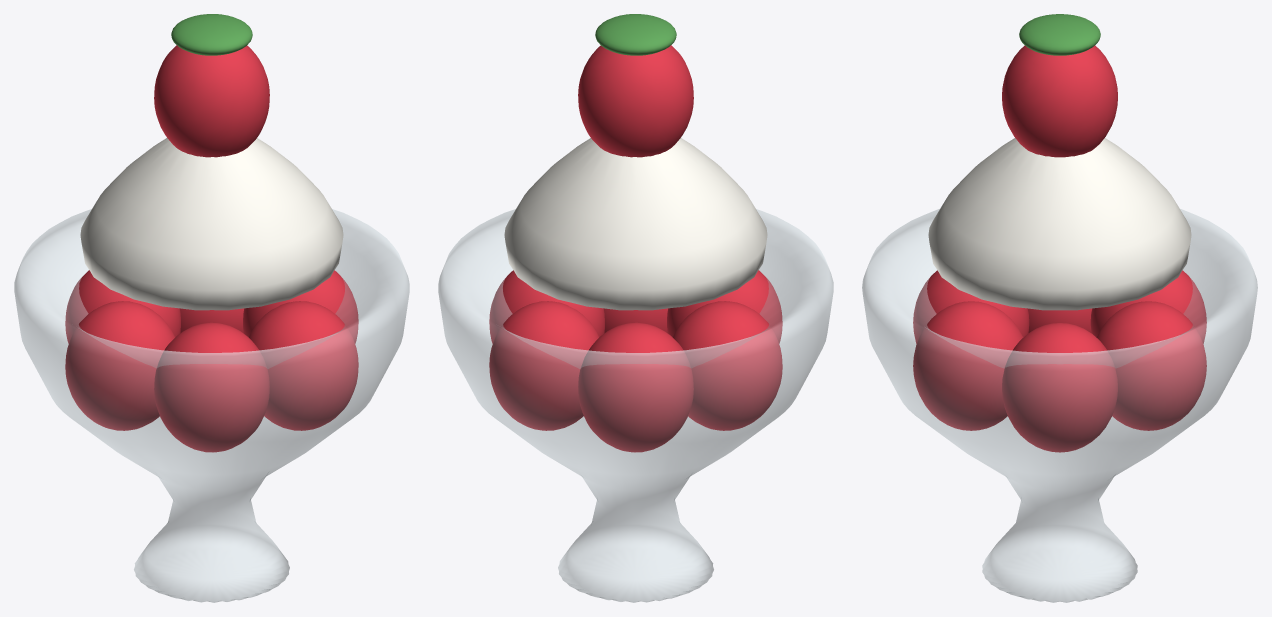
File: comida_fresas_crema.glb
3 views of the same model, side by side, from view 1: azimuth 30°, elevation 25°; view 2: azimuth 150°, elevation 25°; view 3: azimuth 270°, elevation 25° (orthographic).
Parts seen in each view (by area): view 1: copa.001, crema.001, fresa 4.001, fresa arriba.001, fresa 5.001, fresa 3.001, hojita fresa.001, fresa 0.001, fresa 2.001, fresa 1.001; view 2: copa.001, crema.001, fresa 2.001, fresa arriba.001, fresa 1.001, fresa 3.001, hojita fresa.001, fresa 0.001, fresa 4.001, fresa 5.001; view 3: copa.001, crema.001, fresa 0.001, fresa arriba.001, fresa 5.001, fresa 1.001, hojita fresa.001, fresa 2.001, fresa 4.001, fresa 3.001.
Part boxes in pixels (x1=…): copa.001: x1=14, y1=209, x2=409, y2=602; crema.001: x1=80, y1=138, x2=343, y2=310; fresa 4.001: x1=154, y1=322, x2=269, y2=452; fresa arriba.001: x1=154, y1=45, x2=269, y2=157; fresa 5.001: x1=249, y1=301, x2=358, y2=430; fresa 3.001: x1=65, y1=301, x2=175, y2=430; hojita fresa.001: x1=171, y1=14, x2=252, y2=55; fresa 0.001: x1=243, y1=270, x2=358, y2=343; fresa 2.001: x1=65, y1=270, x2=180, y2=343; fresa 1.001: x1=180, y1=308, x2=244, y2=332; copa.001: x1=438, y1=209, x2=833, y2=602; crema.001: x1=504, y1=138, x2=767, y2=310; fresa 2.001: x1=578, y1=322, x2=693, y2=452; fresa arriba.001: x1=578, y1=45, x2=693, y2=157; fresa 1.001: x1=489, y1=301, x2=598, y2=430; fresa 3.001: x1=672, y1=301, x2=782, y2=430; hojita fresa.001: x1=595, y1=14, x2=676, y2=55; fresa 0.001: x1=489, y1=270, x2=604, y2=343; fresa 4.001: x1=667, y1=270, x2=782, y2=343; fresa 5.001: x1=603, y1=308, x2=667, y2=332; copa.001: x1=862, y1=209, x2=1257, y2=602; crema.001: x1=928, y1=138, x2=1191, y2=310; fresa 0.001: x1=1002, y1=323, x2=1117, y2=452; fresa arriba.001: x1=1002, y1=45, x2=1117, y2=157; fresa 5.001: x1=913, y1=301, x2=1023, y2=430; fresa 1.001: x1=1096, y1=301, x2=1206, y2=430; hojita fresa.001: x1=1019, y1=14, x2=1100, y2=55; fresa 2.001: x1=1090, y1=270, x2=1206, y2=343; fresa 4.001: x1=913, y1=270, x2=1029, y2=343; fresa 3.001: x1=1027, y1=308, x2=1092, y2=332.
Size of the model in its own units: 0.2318 by 0.3577 by 0.2318.
